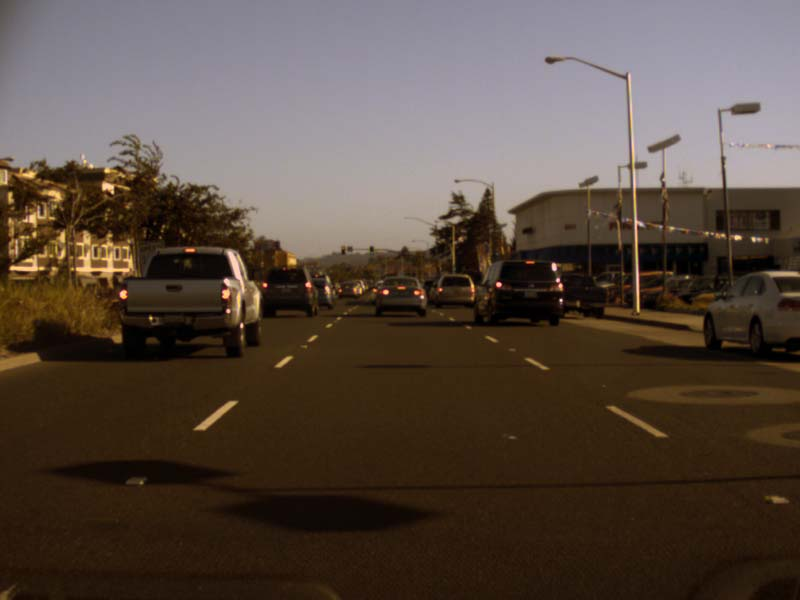Green: (368, 246, 373, 255)
Red: (341, 245, 344, 253)
